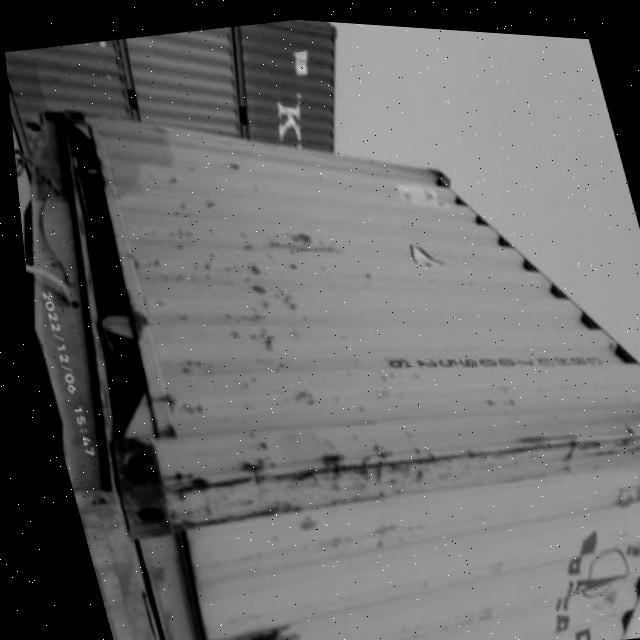rust: (92, 343, 640, 561), (209, 613, 299, 640)
